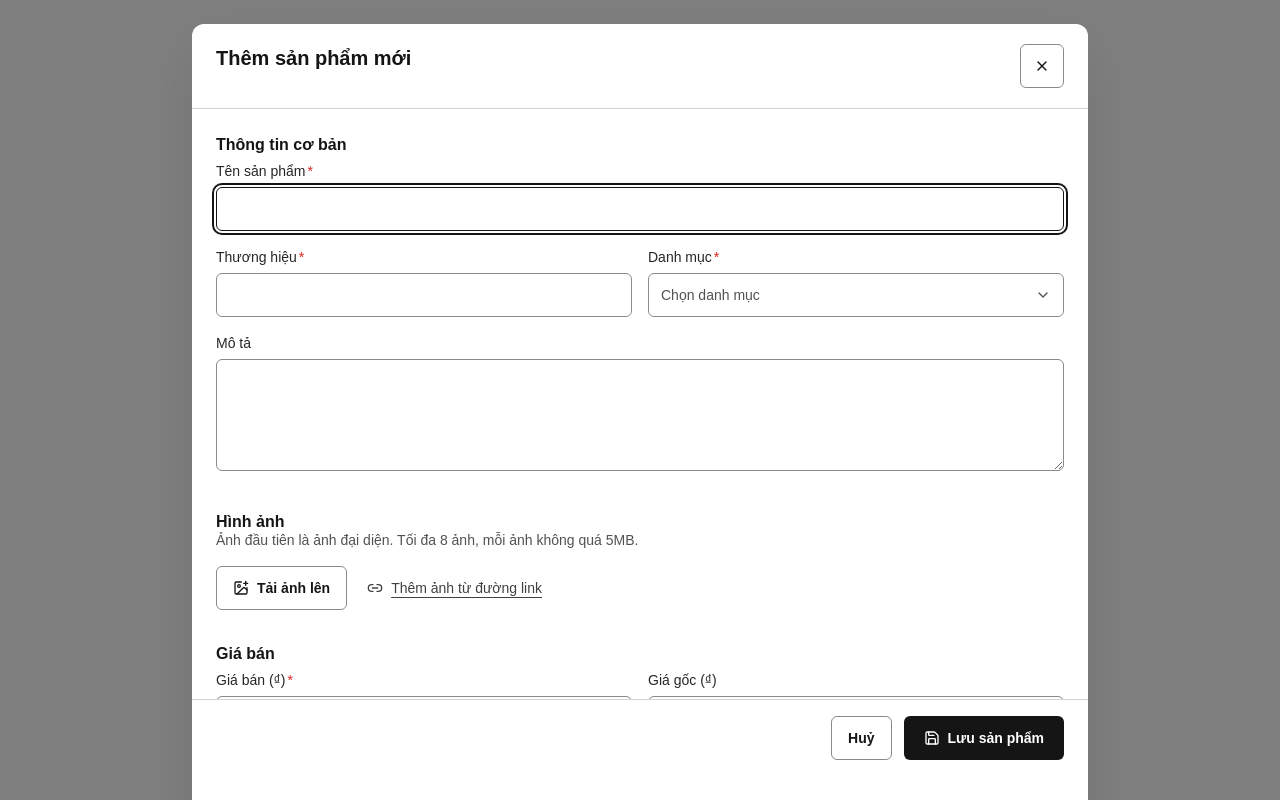
ProductForm › lists every problem in an error summary when saving an empty form
Click the button "Lưu sản phẩm".
click(984, 738)  # box [904,716,1064,760]
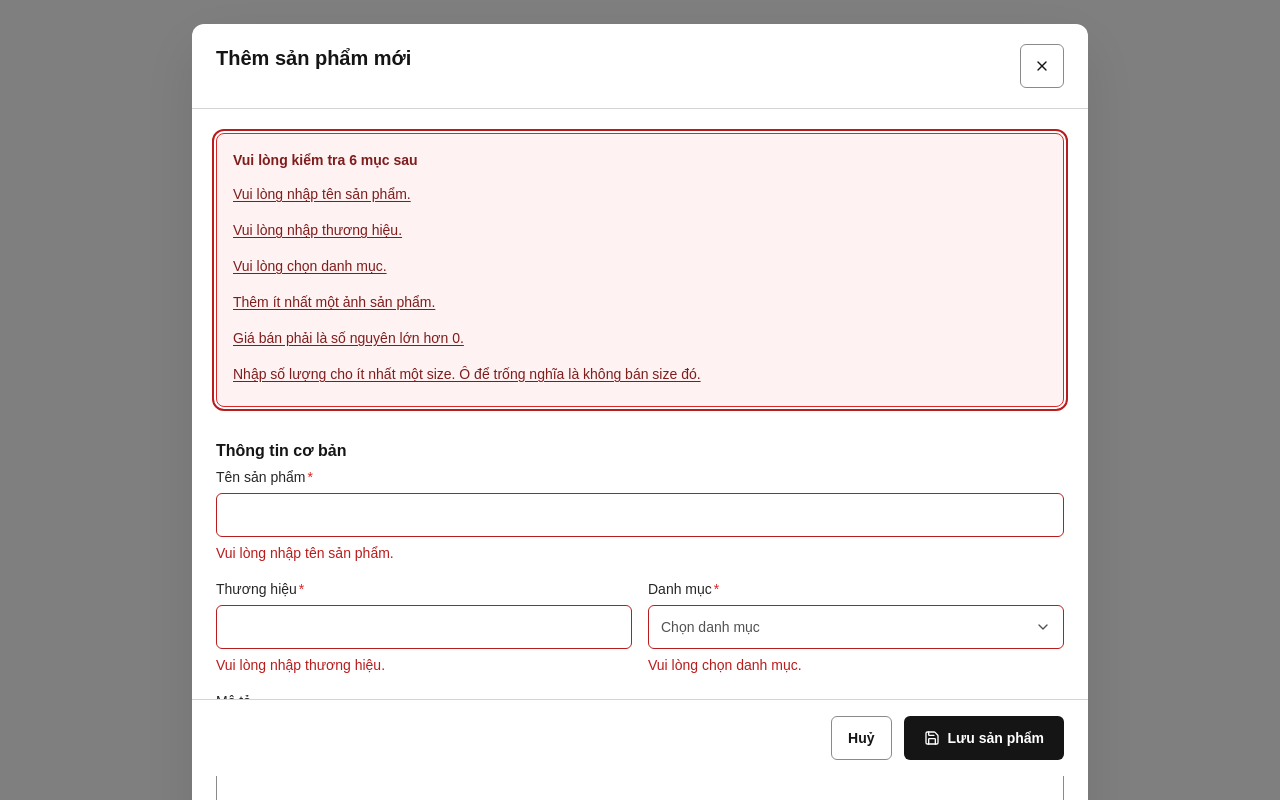
Now the button "Vui lòng nhập tên sản phẩm." is shown, box [233,178,411,210]
Now the button "Vui lòng nhập thương hiệu." is shown, box [233,214,402,246]
Now the button "Vui lòng chọn danh mục." is shown, box [233,250,387,282]
